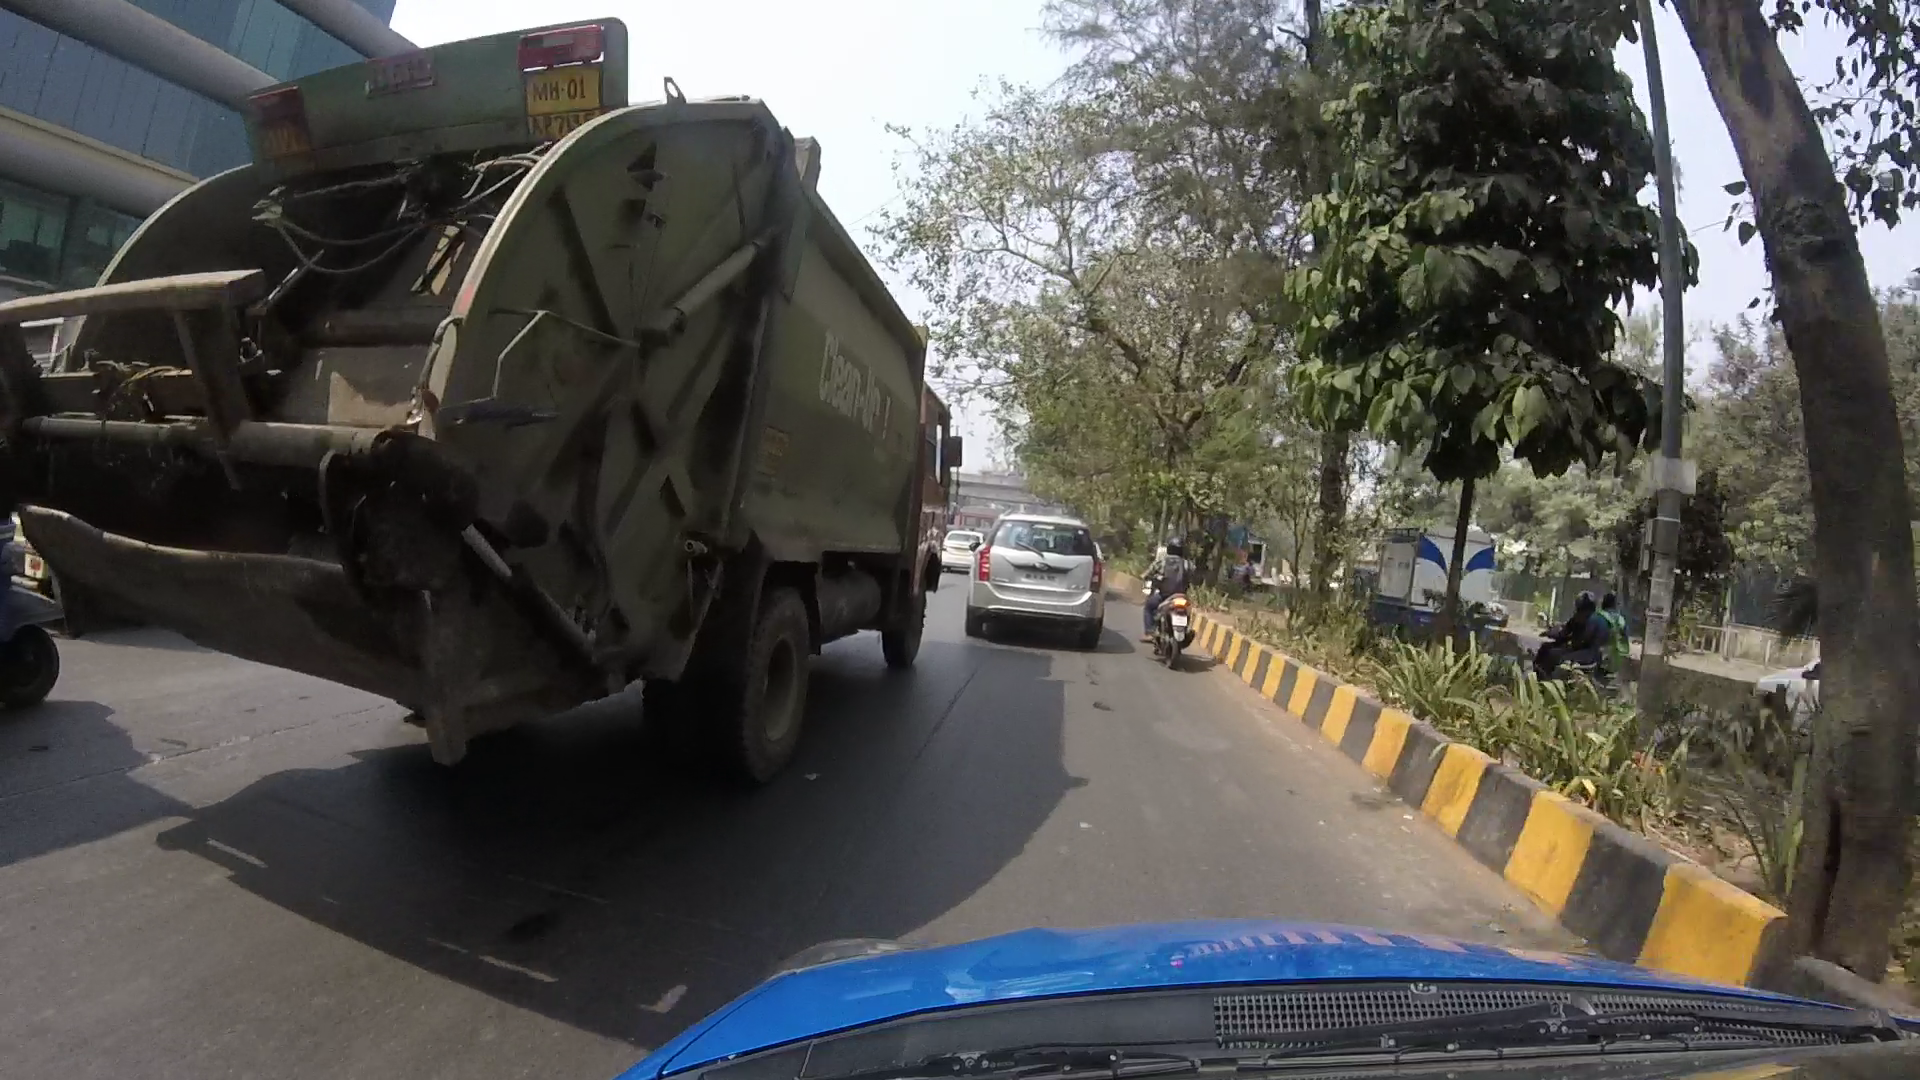bike/scooter: (1121, 516, 1221, 675)
car: (930, 454, 1130, 659)
truck: (18, 22, 971, 804)
